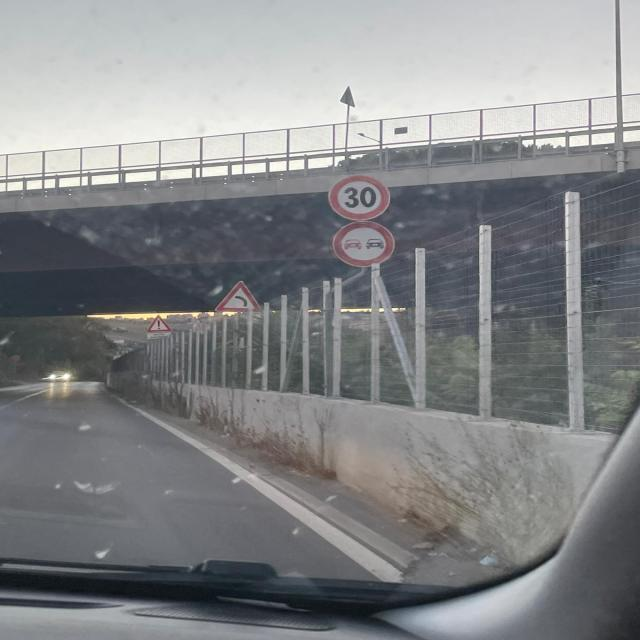forb_overtake: (330, 221, 397, 266)
forb_speed_over_30: (328, 176, 396, 220)
warn_double_curve: (215, 280, 264, 313)
